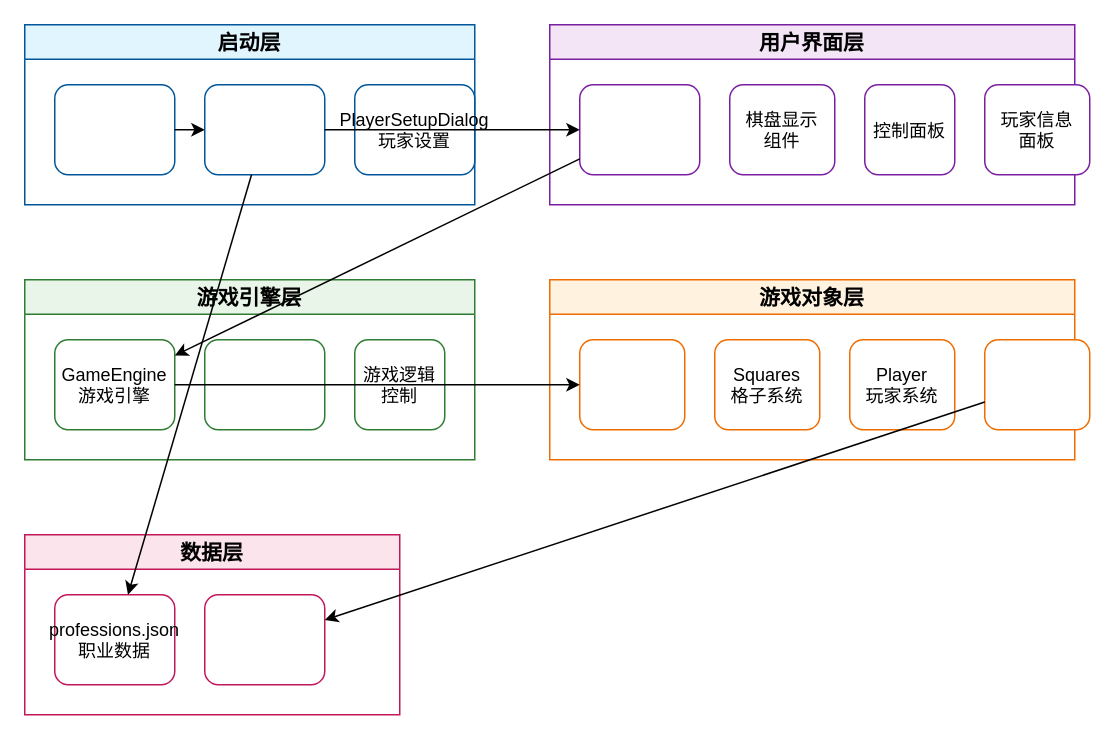
The diagram is 1115 pixels wide and 740 high, and some of its shapes have lost their labels. The shapes that lost their labels are listed below. From the top down, each one's centre as x and y in pixels, then its label:
At point 114,129: "main.py 游戏启动器".
At point 264,129: "GameLauncher 图形启动器".
At point 639,129: "MainWindow 主游戏窗口".
At point 264,384: "游戏阶段管理 GamePhase/TurnPhase".
At point 631,384: "GameBoard 游戏棋盘".
At point 1036,384: "Cards 卡片系统".
At point 264,639: "cards.json 卡片数据".
